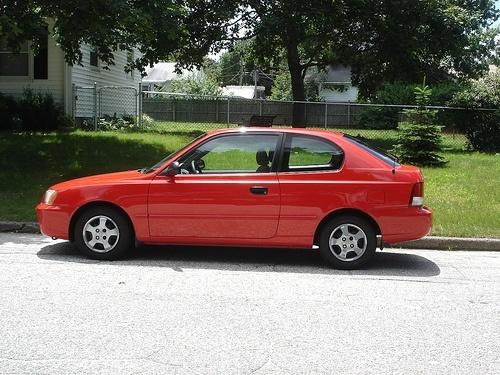car: (36, 128, 434, 271)
